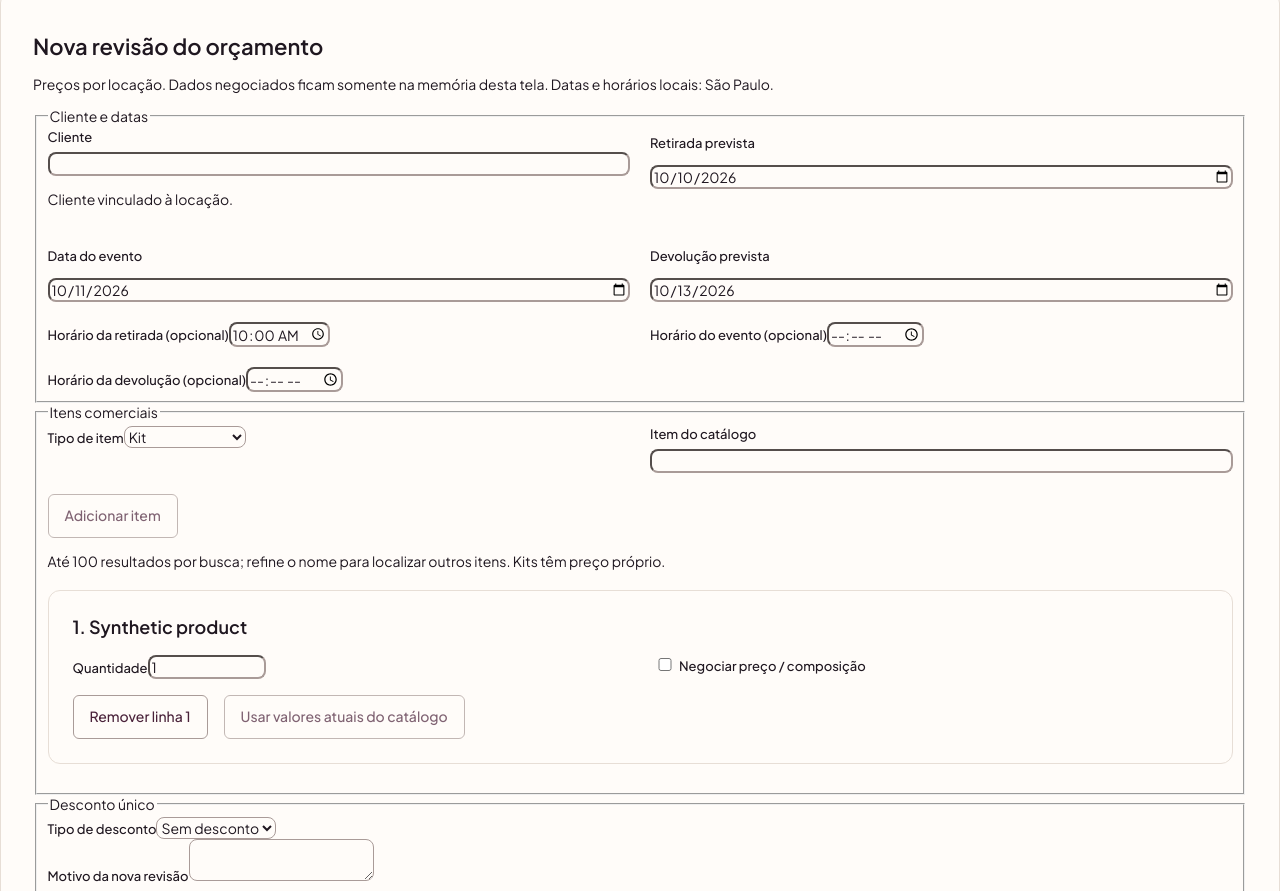
Scenario: explains invalid Devolução prevista beside the field and does not send or save the draft
Type "Revisão sintética" into the text box labelled "Motivo da nova revisão". click: (281, 860)
box: [188,839,374,881]
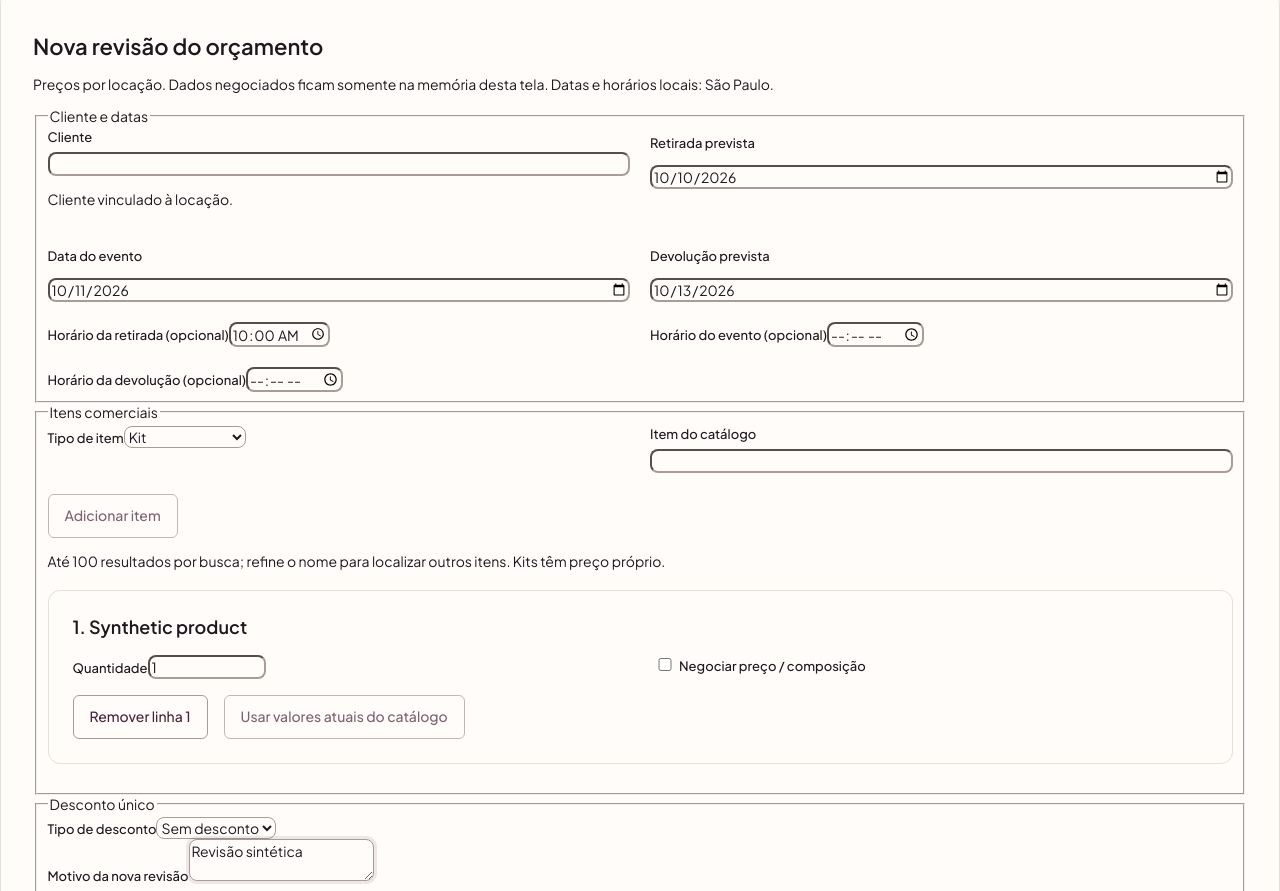
Type "2026-10-10" into the date field labelled "Devolução prevista". click: (941, 290)
box: [650,278,1232,302]
(page scrolled)
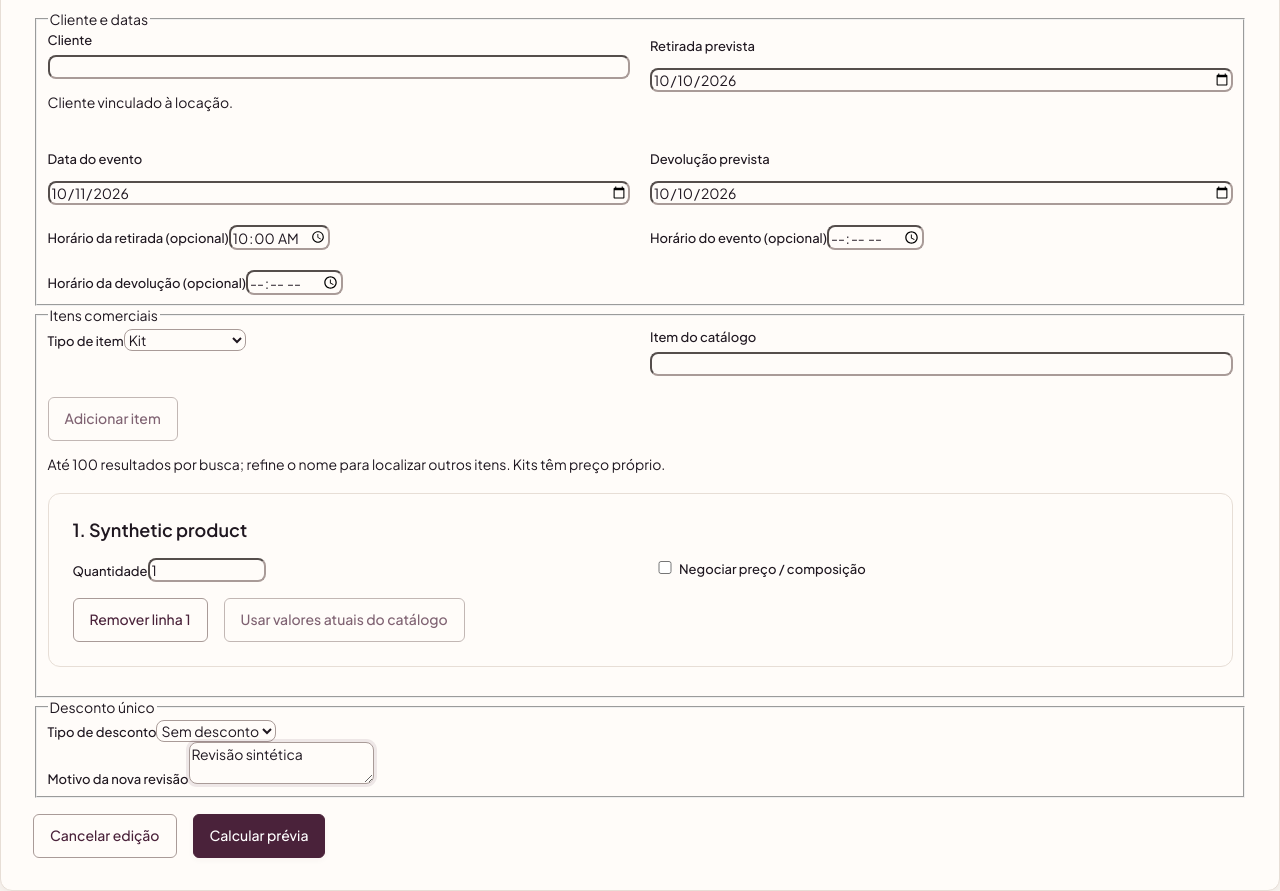
Click the button "Calcular prévia". click: (259, 836)
box: [192,814,326,858]
(page scrolled)
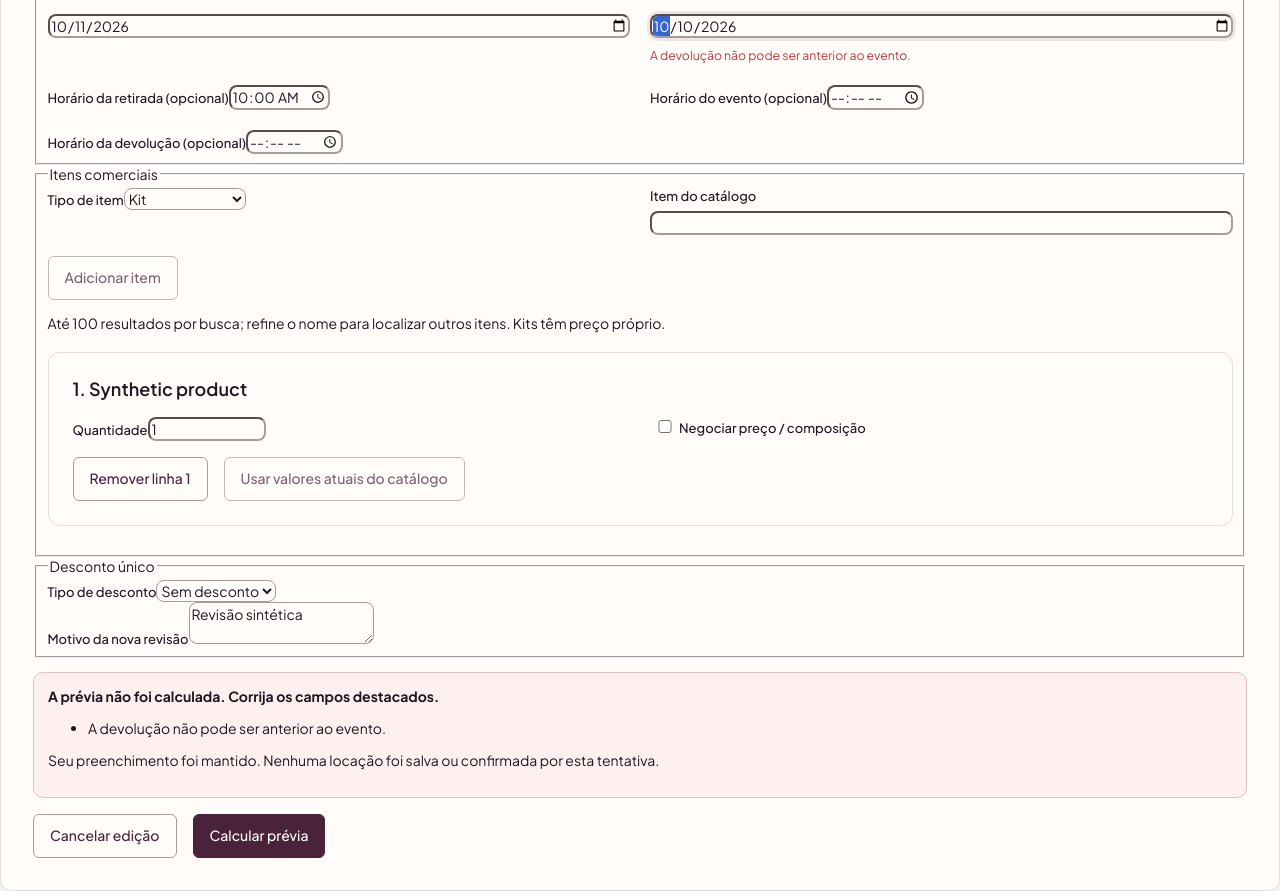
Now the text "A devolução não pode ser anterior ao evento." is shown, box [650,48,911,64]
Now the message shows "Nenhuma locação foi salva ou confirmada", box [48,751,659,769]
